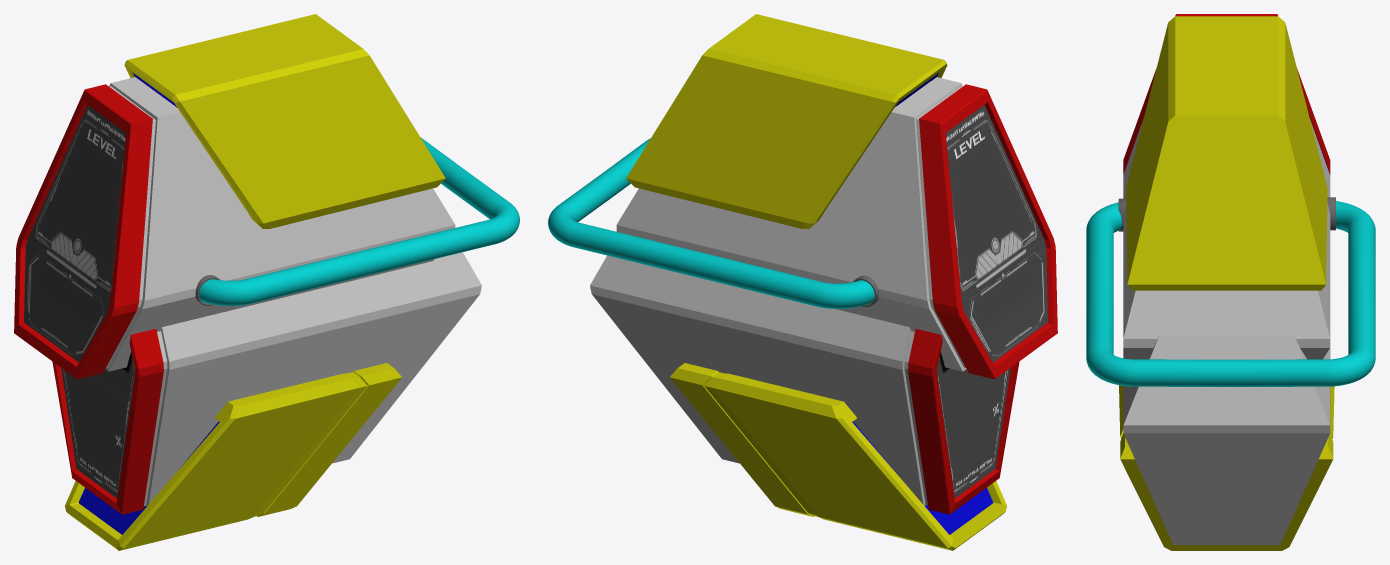
File: sci-fi_BowComputer.fbx
The picture shows the model from 3 angles, left to right: view 1: azimuth 30°, elevation 25°; view 2: azimuth 150°, elevation 25°; view 3: azimuth 270°, elevation 25°; orthographic projection. The views are drawn at different scales.
Parts seen in each view (by area): view 1: Bow_Computer, Bow_Computer_Disp1, Bow_Computer_Disp2; view 2: Bow_Computer, Bow_Computer_Disp1, Bow_Computer_Disp2; view 3: Bow_Computer.
Boxes of the visible parts, x1=… form: Bow_Computer: x1=14, y1=14, x2=519, y2=550; Bow_Computer_Disp1: x1=24, y1=105, x2=125, y2=362; Bow_Computer_Disp2: x1=61, y1=352, x2=134, y2=498; Bow_Computer: x1=548, y1=14, x2=1057, y2=550; Bow_Computer_Disp1: x1=946, y1=105, x2=1047, y2=362; Bow_Computer_Disp2: x1=937, y1=352, x2=1010, y2=498; Bow_Computer: x1=1086, y1=14, x2=1375, y2=550.
Bounding box in the file's own units: 19.44 × 19.2 × 10.6.
